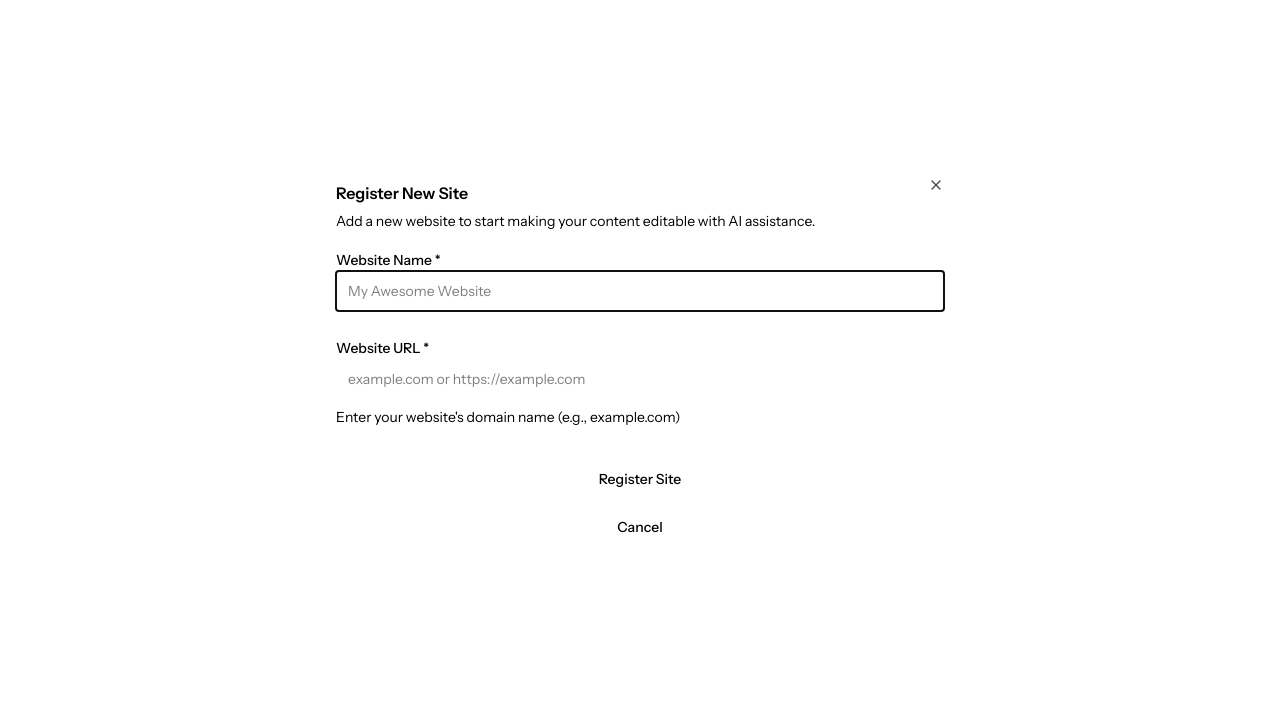
it: SiteRegistrationModal › Form Validation › should clear field errors when user starts typing
Click the button "Register Site" at point(640, 479), box top-left (336, 459), bottom-right (944, 499)
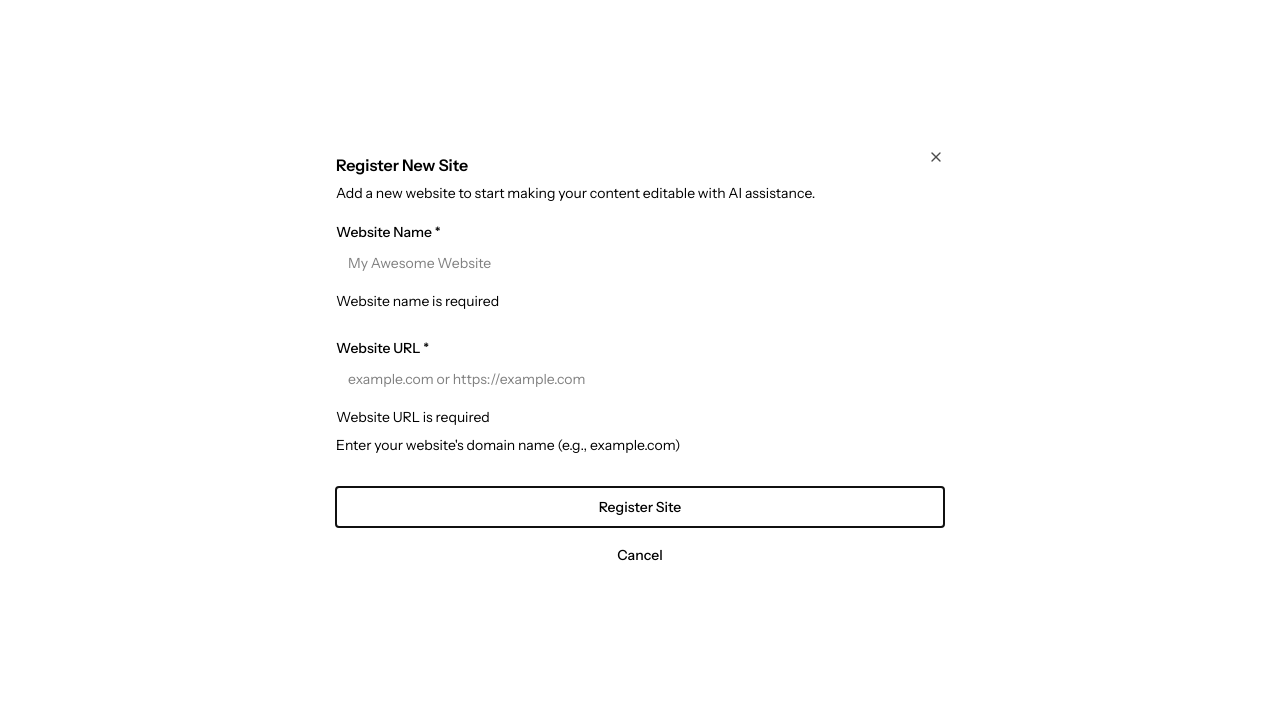
Result: the text "Website name is required" is shown at top-left (336, 292), bottom-right (499, 310)
Result: the text "Website URL is required" is shown at top-left (336, 408), bottom-right (490, 426)
Type "Test" into the field labelled "Website Name *" at point(640, 263), box top-left (336, 243), bottom-right (944, 283)
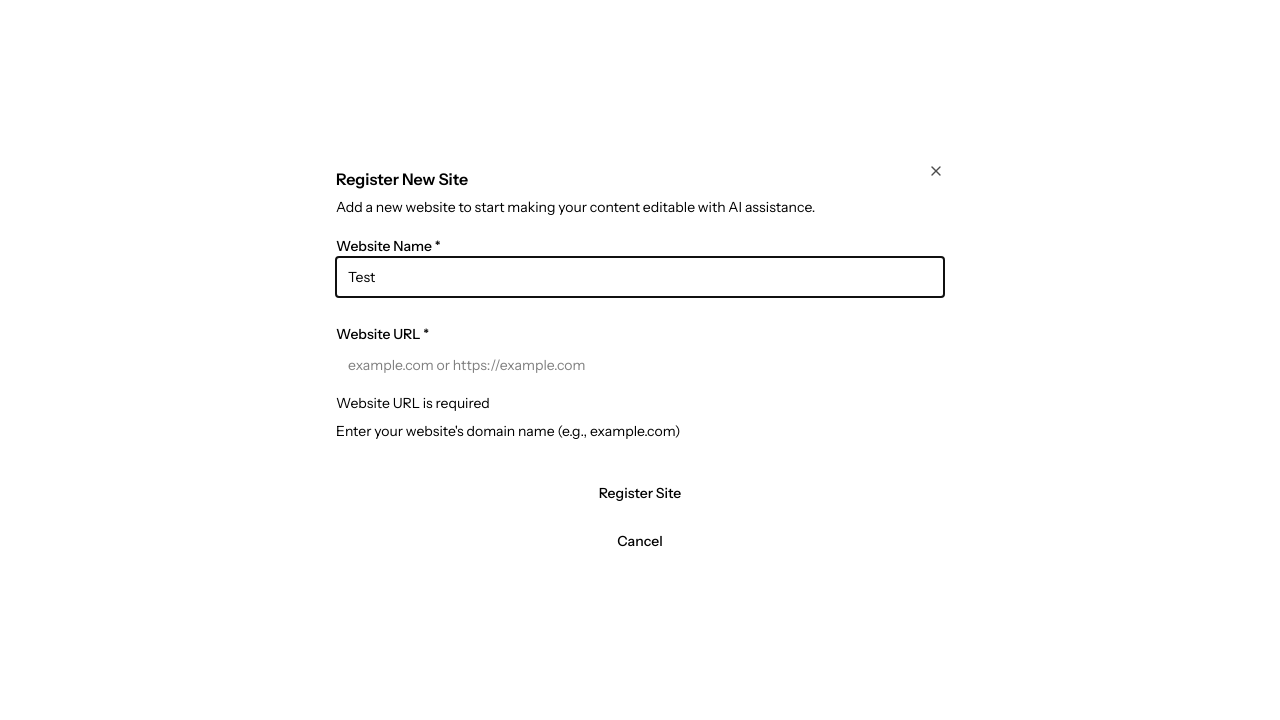
Result: the text "Website URL is required" is shown at top-left (336, 394), bottom-right (490, 412)
Result: the text "Website name is required" is gone
